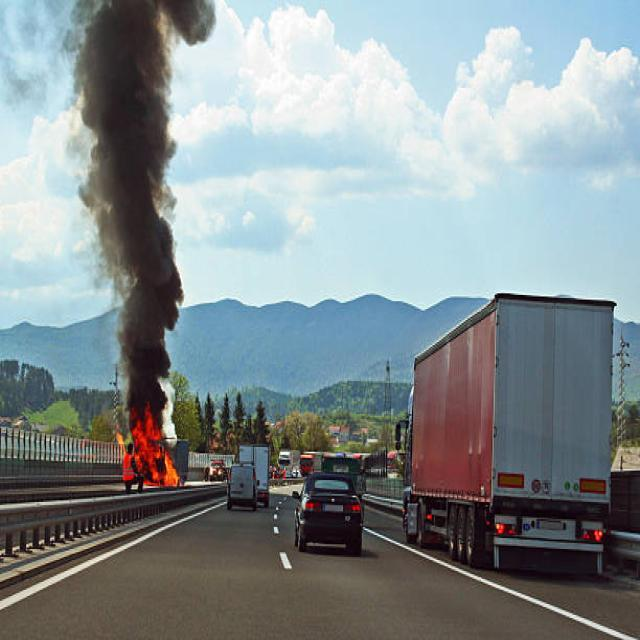Fire: (134, 420, 178, 487), (115, 424, 126, 454)
Smoke: (54, 2, 215, 426)
